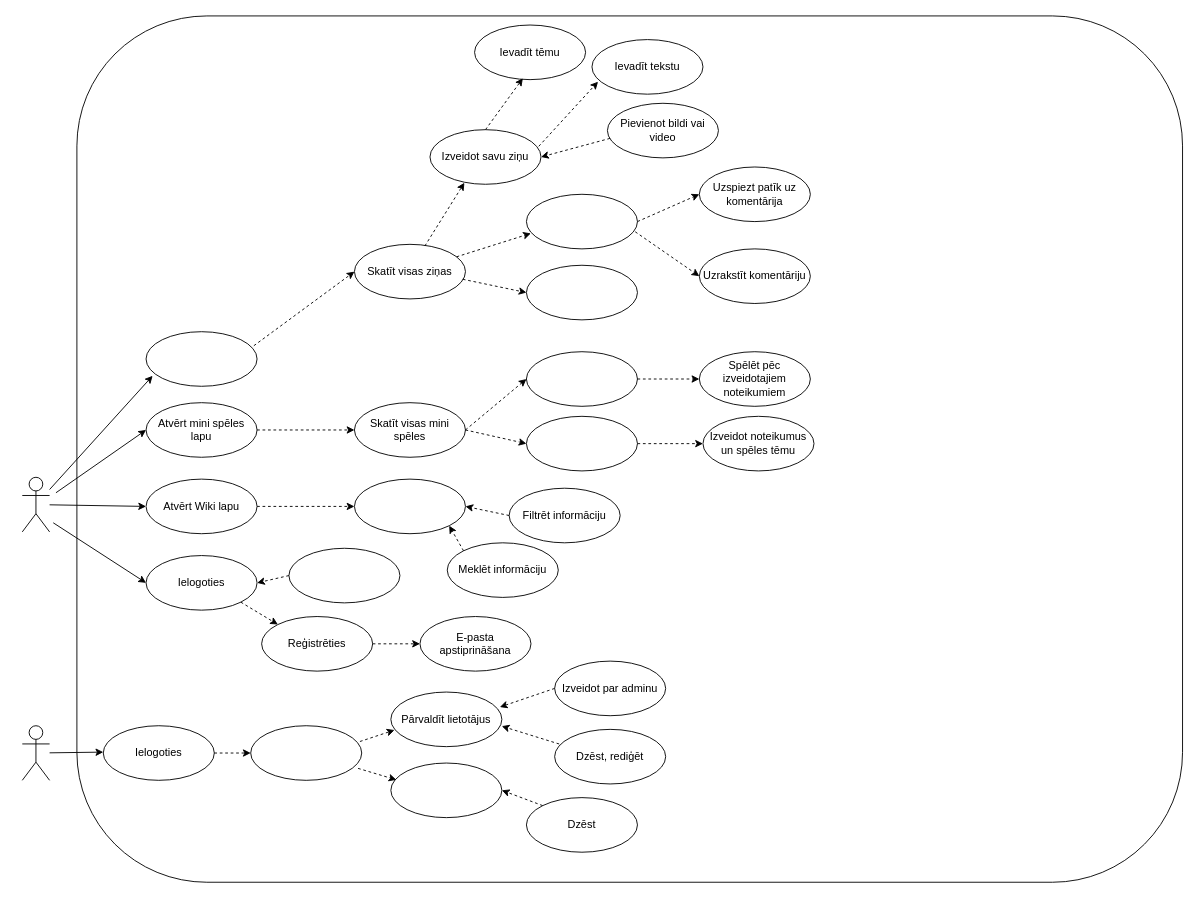
This 1198x898 diagram has some shape labels left out. Each missing label, with the centre of its shape:
"Admin panelis" goes at point (306, 752).
"Admins" goes at point (35, 752).
"Atvērt foruma lapu" goes at point (201, 358).
"Izveidot spēli" goes at point (581, 443).
"Lietotājs" goes at point (35, 504).
"Pārvaldīt ziņas, spēles" goes at point (446, 790).
"Skatīt informāciju" goes at point (409, 506).
"Spēlēt spēli" goes at point (581, 378).
"Uzspiezt patīk" goes at point (581, 292).
"Uzspiezt uz ziņu" goes at point (581, 221).
"Veiksmīga ieiešana aizved uz forumu" goes at point (344, 575).
